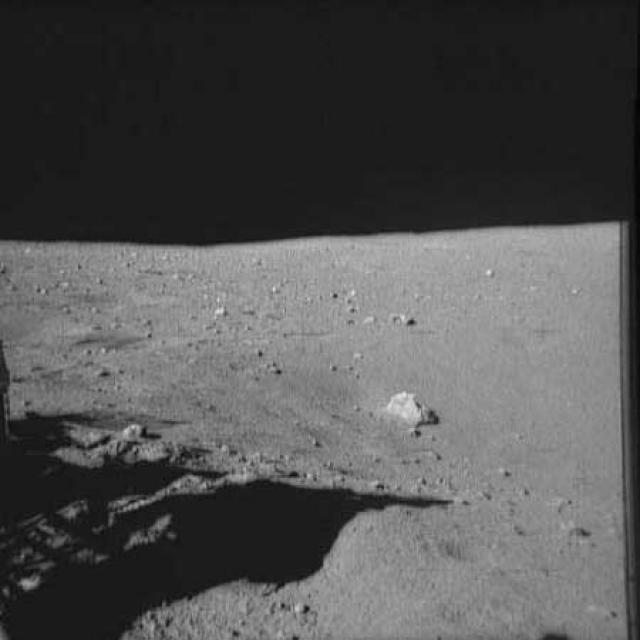crater: (426, 534, 509, 577), (73, 286, 180, 312), (72, 328, 187, 352)
rock: (214, 446, 294, 491), (381, 385, 432, 429), (556, 518, 592, 541), (119, 420, 153, 443), (583, 598, 613, 624), (264, 357, 302, 376), (209, 300, 236, 324), (391, 310, 418, 332), (359, 309, 384, 331), (290, 599, 316, 620), (92, 365, 113, 384), (367, 475, 387, 494), (250, 344, 268, 362), (482, 264, 506, 277), (494, 467, 517, 479), (424, 448, 440, 462)
